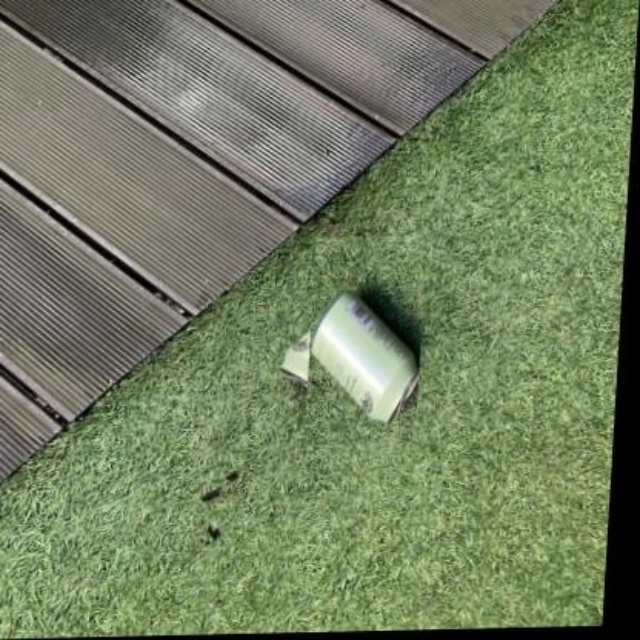trash: (282, 294, 417, 422)
